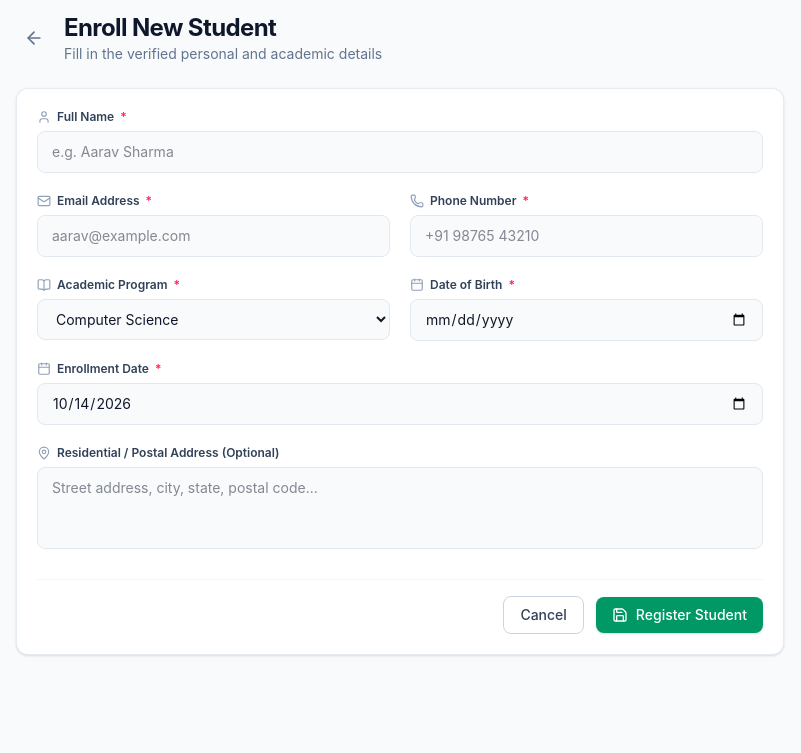
Test: StudentFormPage › validates client-side constraints on empty submit
What coordinates should you click on to do the following:
click the button "Register Student"
I would click on:
 (679, 615)
Its box is top-left (596, 597), bottom-right (763, 633).
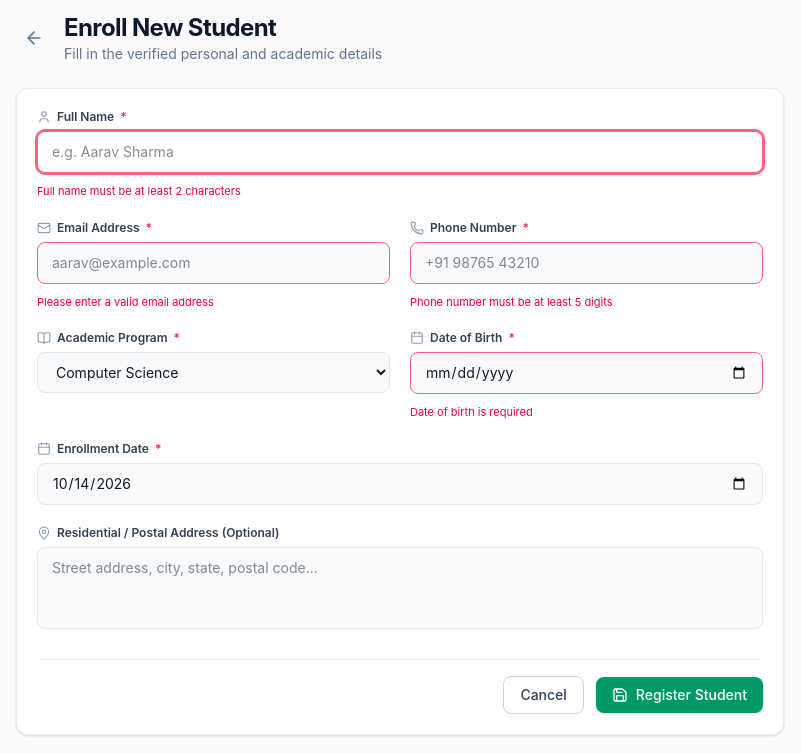
Expected: the text "Full name must be at least 2 characters" is shown, top-left (37, 184), bottom-right (241, 198)
Expected: the text "Please enter a valid email address" is shown, top-left (37, 294), bottom-right (214, 308)
